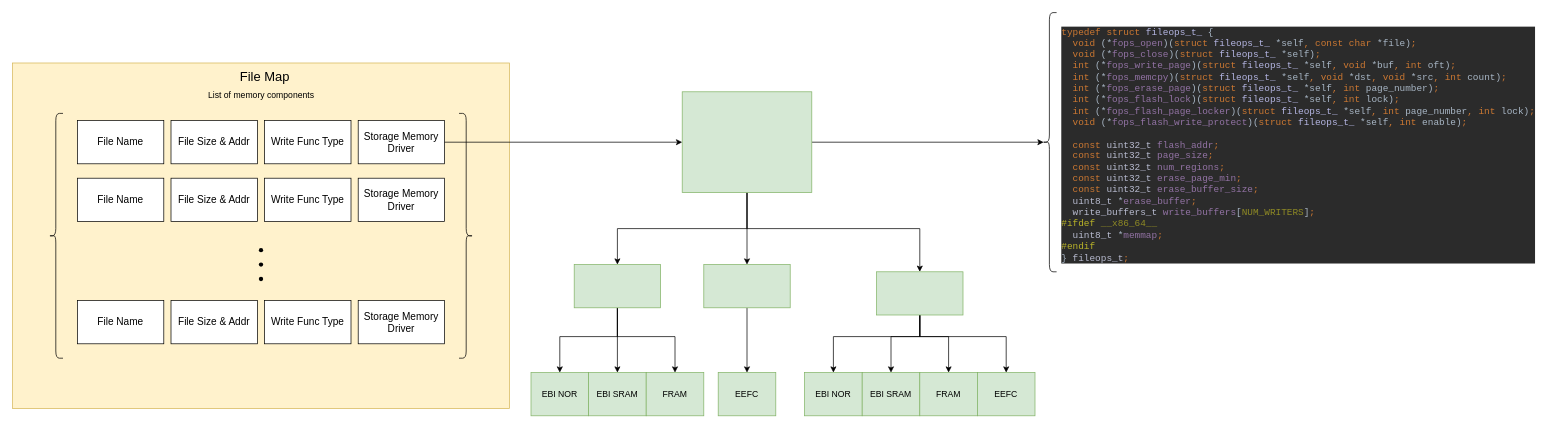
Some shapes in this 1548 by 428 pixel diagram are drawn without their labels. Each missing label, with the centre of its shape:
SAMV71: point 746,286
Storage Memroy Driver Class: point 746,142
VA41630: point 617,286
x86: point 919,293
